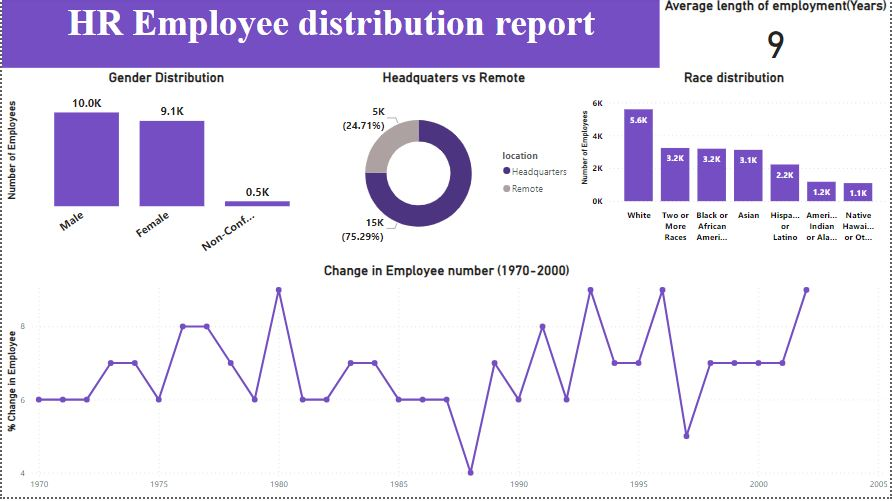

Layout of this report page (visuals, bound fields, positions):
{"tool":"powerbi","page":{"name":"Page 1","canvas":[1280,720],"ordinal":0},"visuals":[{"type":"textbox","box":[0,0,947.4,102.5],"z":0},{"type":"card","title":"Average length of employment(Years)","fields":{"Values":["Sum(Avg_length_employment.avg_length_employment)"]},"box":[947.4,0,332.6,102.5],"z":1000},{"type":"columnChart","title":"Gender Distribution","fields":{"Y":["Sum(gender.Count)"],"Category":["gender.gen_der"]},"box":[0,103.3,473.6,278.6],"z":2000},{"type":"donutChart","title":"Headquaters vs Remote","fields":{"Y":["Sum(Location.Count)"],"Category":["Location.location"]},"box":[473.6,103.3,354,278.6],"z":3000},{"type":"lineChart","title":"Change in Employee number (1970-2000)","fields":{"Y":["Sum(employee_change.net_change_percent)"],"Category":["employee_change.year"]},"box":[0,381.9,1280,337.6],"z":4000},{"type":"clusteredColumnChart","title":"Race distribution","fields":{"Y":["Sum(race.Count)"],"Category":["race.race"]},"box":[827.7,103.3,452.3,257.3],"z":4001}]}

Visuals, with their boxes in screenshot pixels (x1, y1, x2, y2), scaled from the page's 1280x720 canvas onto the 892x501 screenshot:
textbox: x1=0, y1=0, x2=660, y2=71
"Average length of employment(Years)" card: x1=660, y1=0, x2=891, y2=71
"Gender Distribution" columnChart: x1=0, y1=72, x2=330, y2=266
"Headquaters vs Remote" donutChart: x1=330, y1=72, x2=577, y2=266
"Change in Employee number (1970-2000)" lineChart: x1=0, y1=266, x2=891, y2=500
"Race distribution" clusteredColumnChart: x1=577, y1=72, x2=891, y2=251
